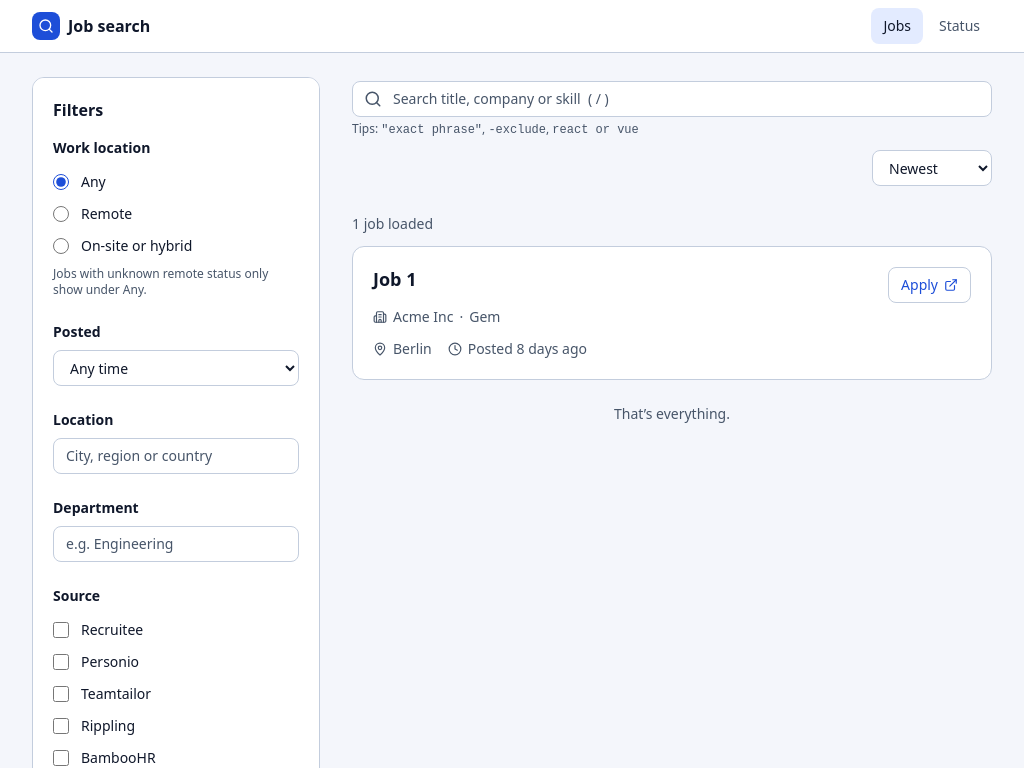
it: search page › typing in the search box debounces, updates the URL, and offers best-match sort only with a query
Expected: the link "Job 1" is shown, [373,267,416,291]
In the search field named "Search jobs": (672, 99) [352,81,992,117], type "react"
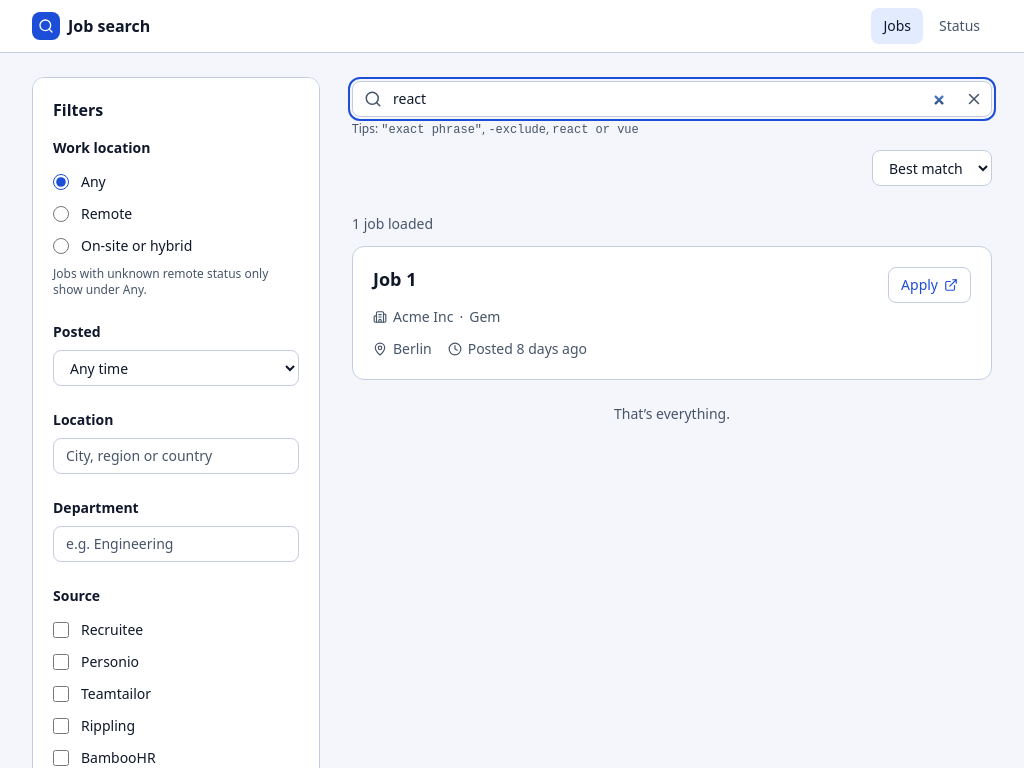
Expected: the dropdown named "Sort by" shows "Best match", [872,150,992,186]
